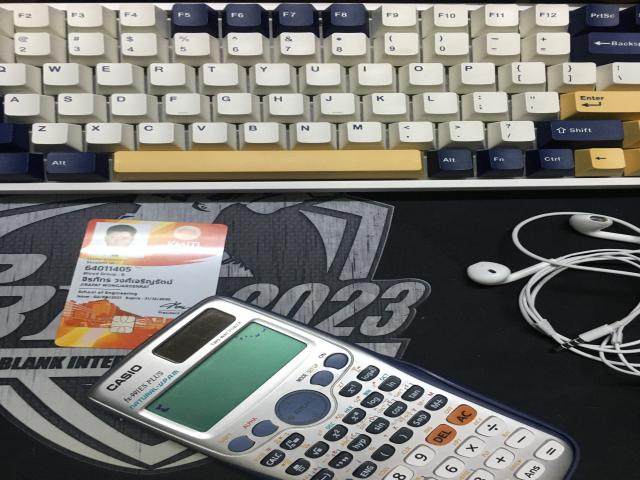wire: (467, 212, 640, 375)
